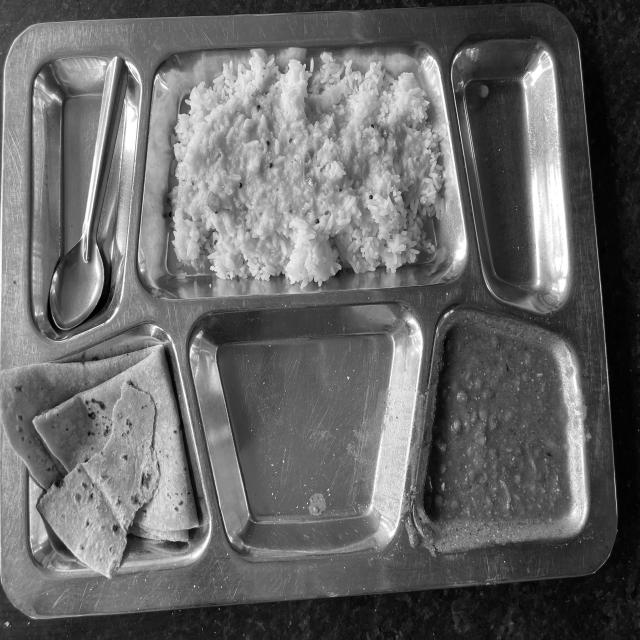70.9- Food Left: (13, 39, 601, 566)
